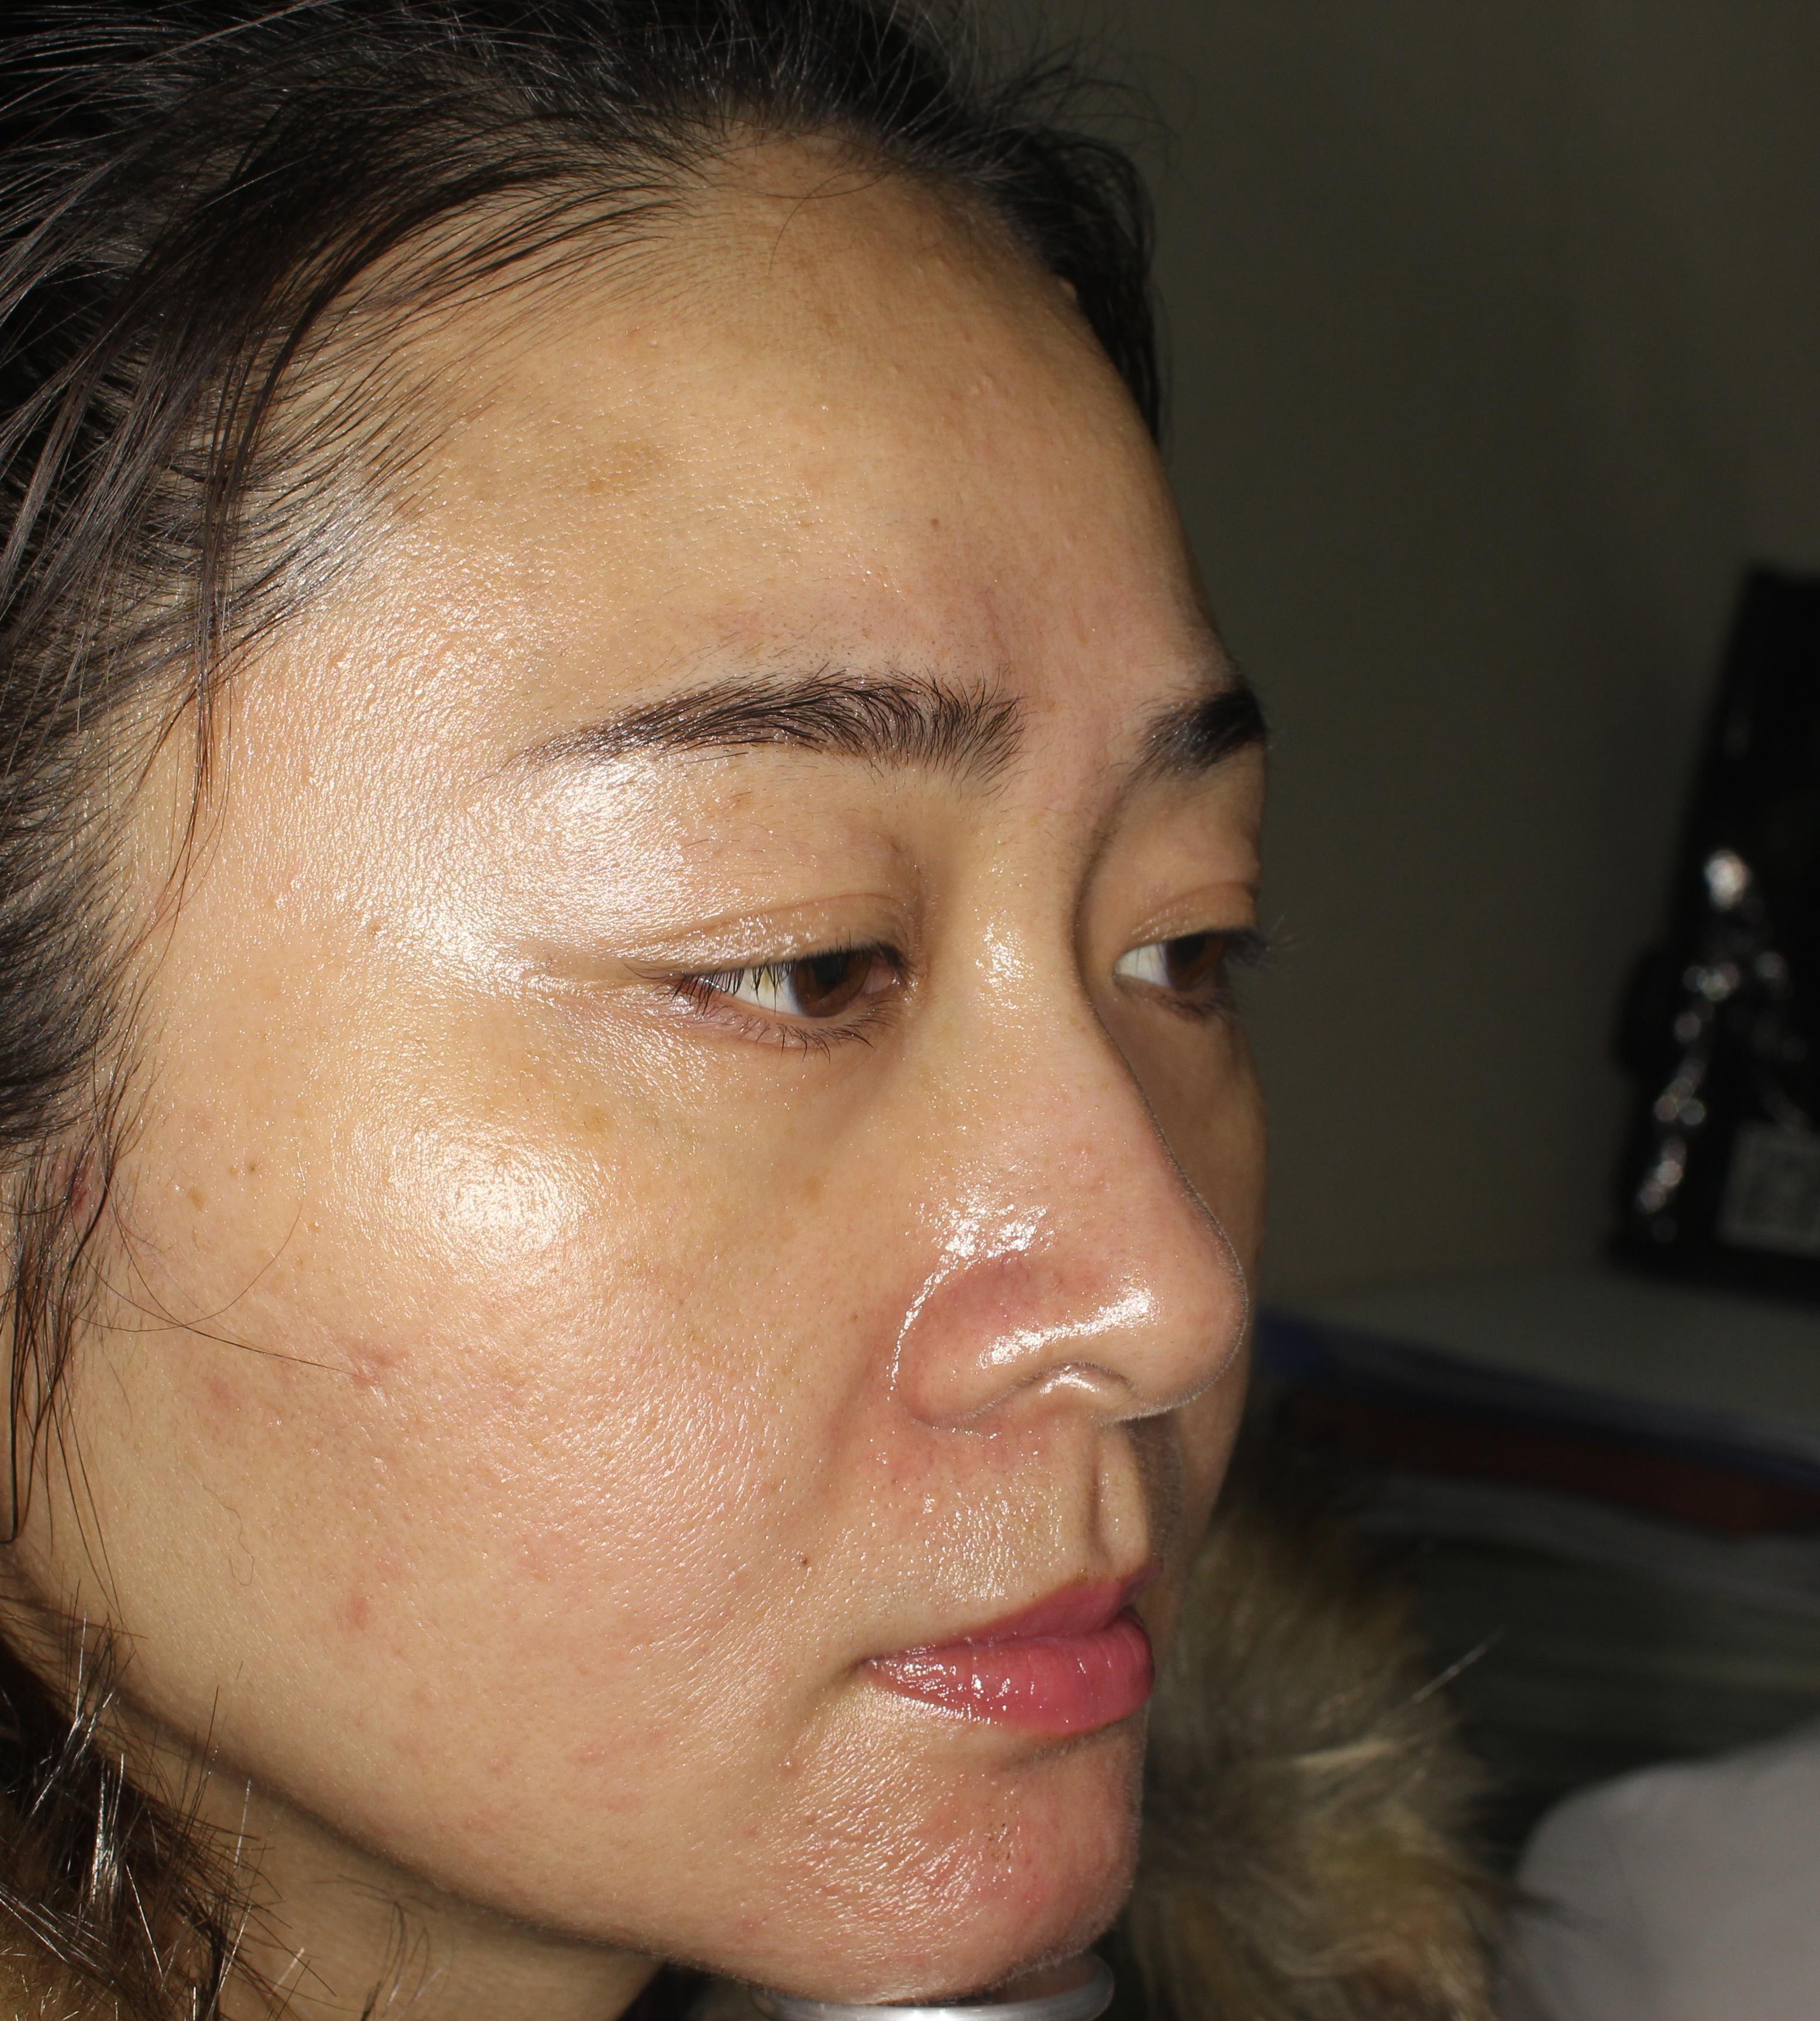fore: (181, 1343, 265, 1456), (337, 1315, 404, 1428), (320, 1568, 395, 1649)
